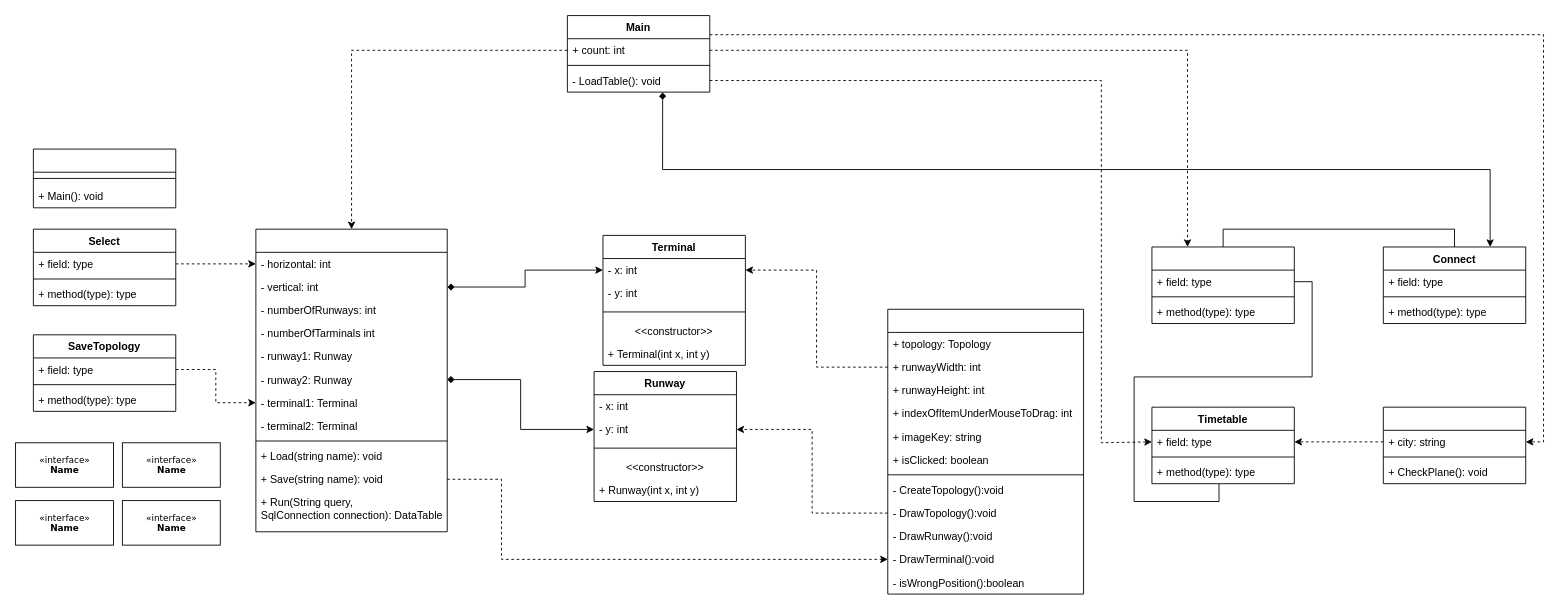
The diagram is 1566 pixels wide and 612 high, and some of its shapes have lost their labels. The box of each missing label's shape, as (x1, y1, x2, y2) in pixels:
Constructor: (887, 308, 1084, 594)
Database: (1151, 246, 1294, 324)
Editor: (1382, 406, 1526, 484)
Program: (32, 148, 176, 208)
Topology: (255, 228, 447, 532)
